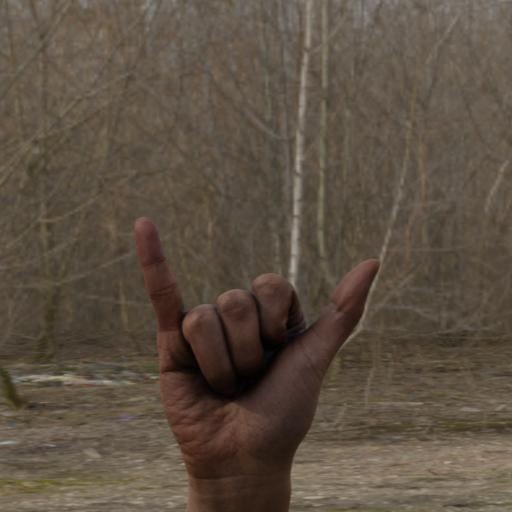Y: (112, 197, 400, 487)
